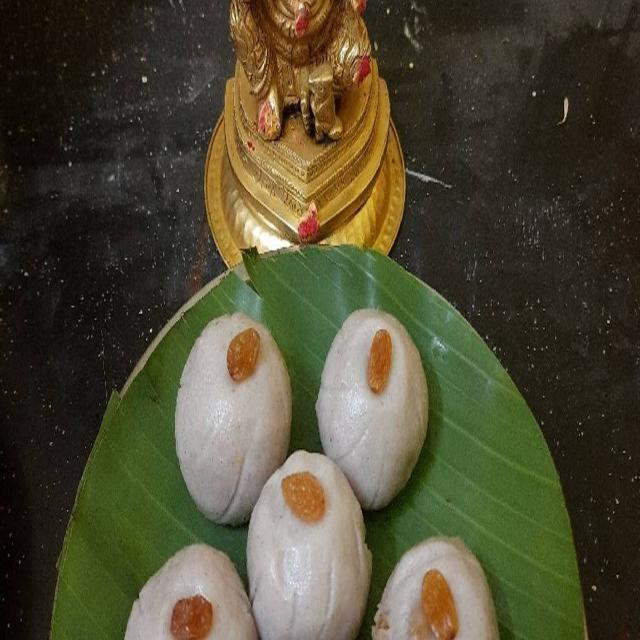poorna kolukattai: (89, 293, 599, 640)
